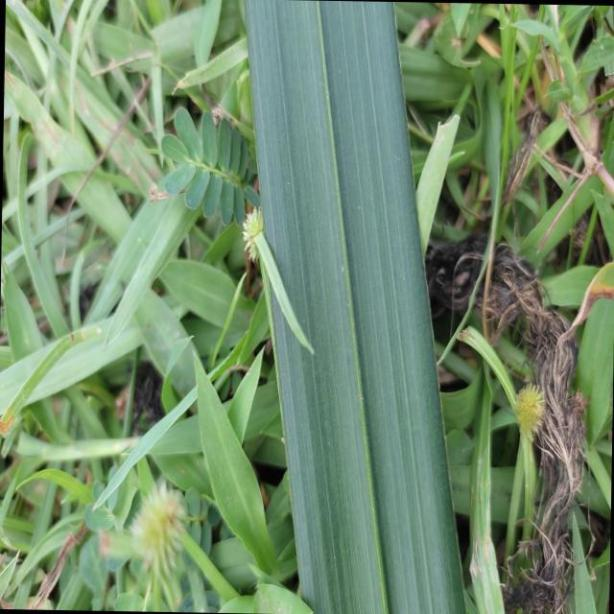Healthy: (243, 0, 472, 614)
